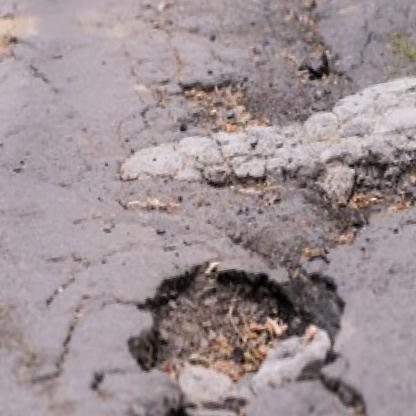pothole: (110, 240, 328, 416)
